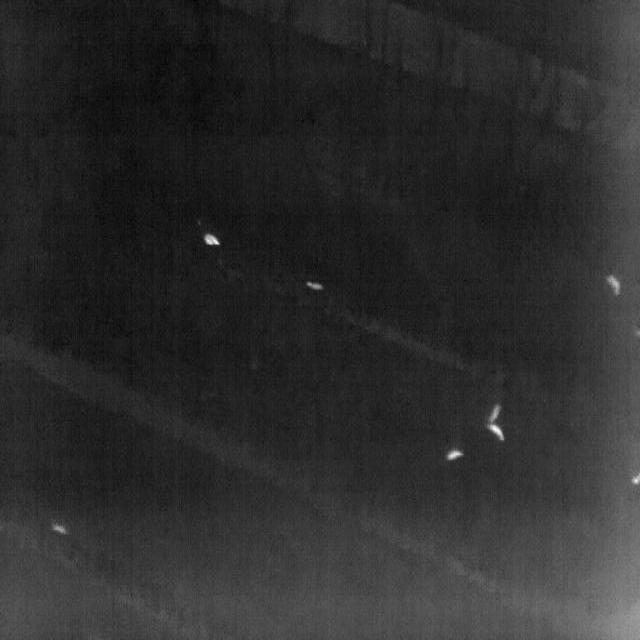deer: (486, 423, 506, 441), (606, 274, 621, 296), (488, 402, 502, 423), (202, 233, 220, 246), (446, 448, 464, 461), (51, 524, 70, 535), (307, 282, 323, 290), (631, 470, 640, 484)
